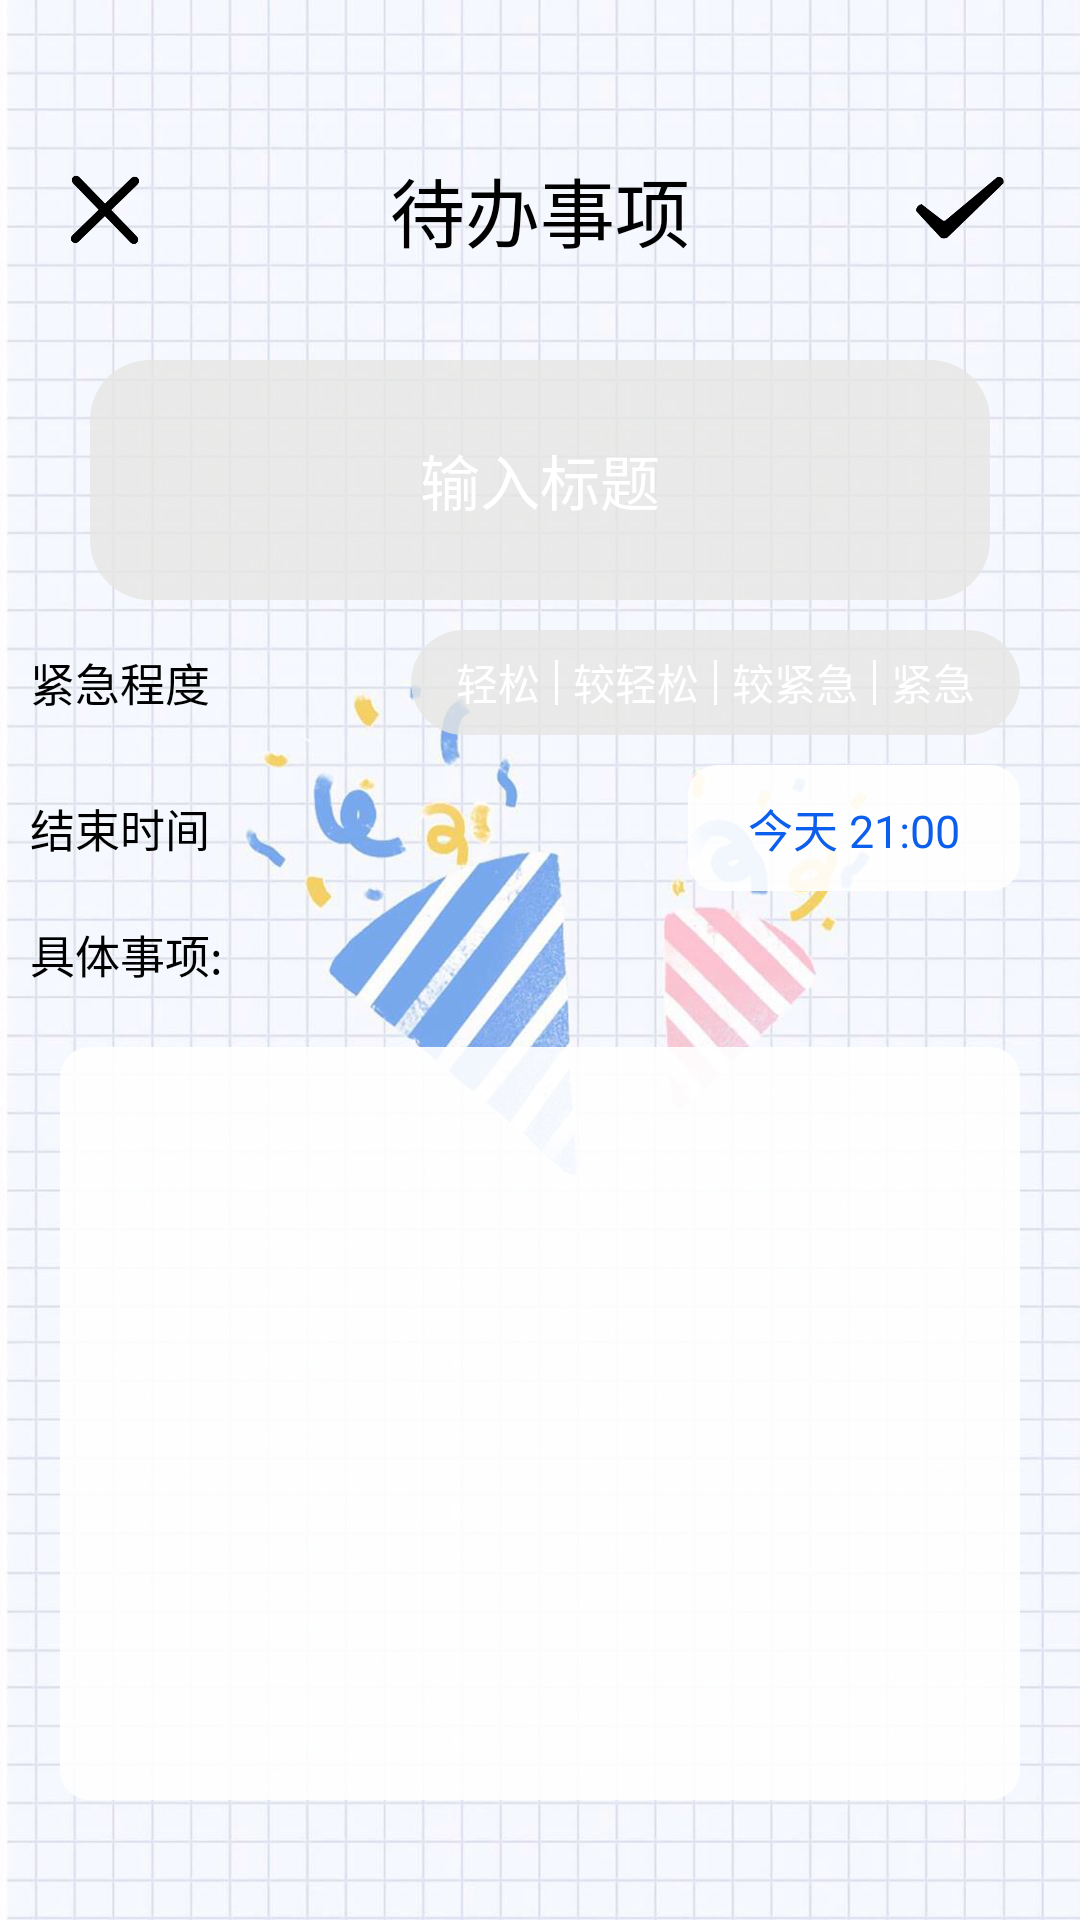

Locate icon controls on the screen. Image size 1080px x 1920px, boxes as (x1, y1, x2, y2).
content detail concile: (64, 165, 148, 255)
content detail confirm: (916, 177, 1004, 242)
